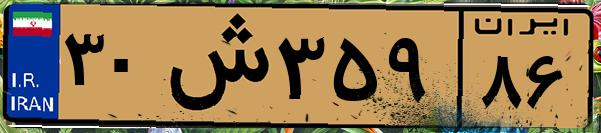0: (110, 28, 158, 98)
3: (270, 28, 330, 110), (57, 26, 110, 100)
5: (330, 28, 385, 110)
6: (525, 38, 570, 115)
8: (475, 38, 525, 113)
9: (385, 28, 445, 110)
ش: (158, 12, 270, 120)
